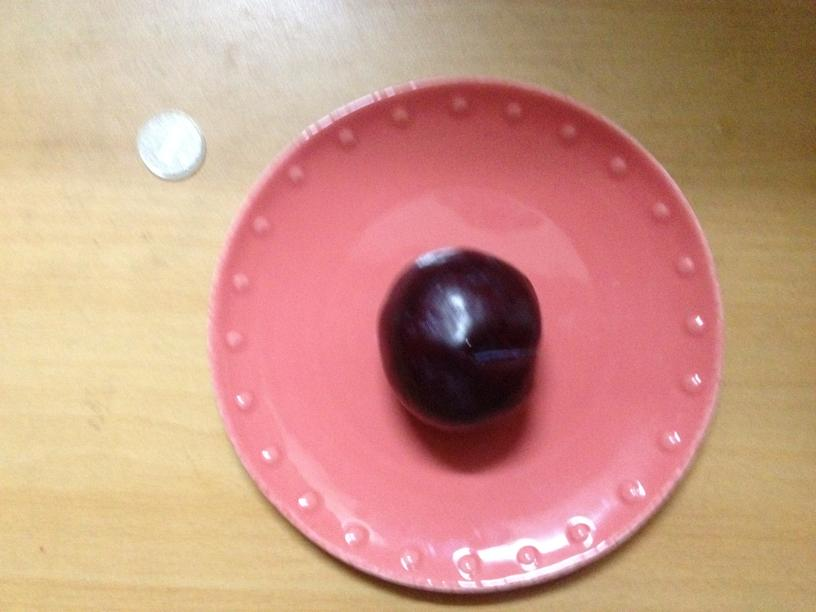coin: (134, 109, 205, 180)
plum: (375, 253, 539, 427)
